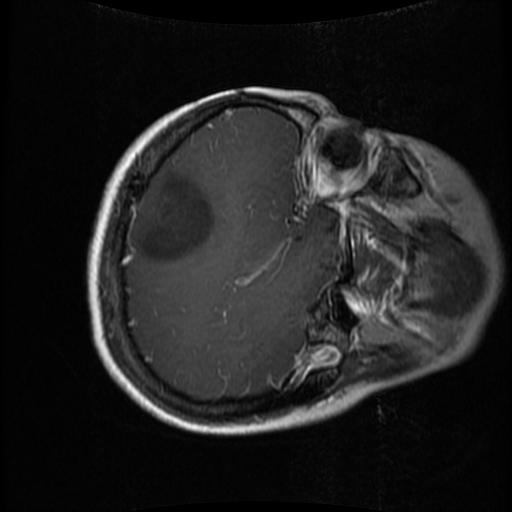glioma: (135, 171, 213, 262)
